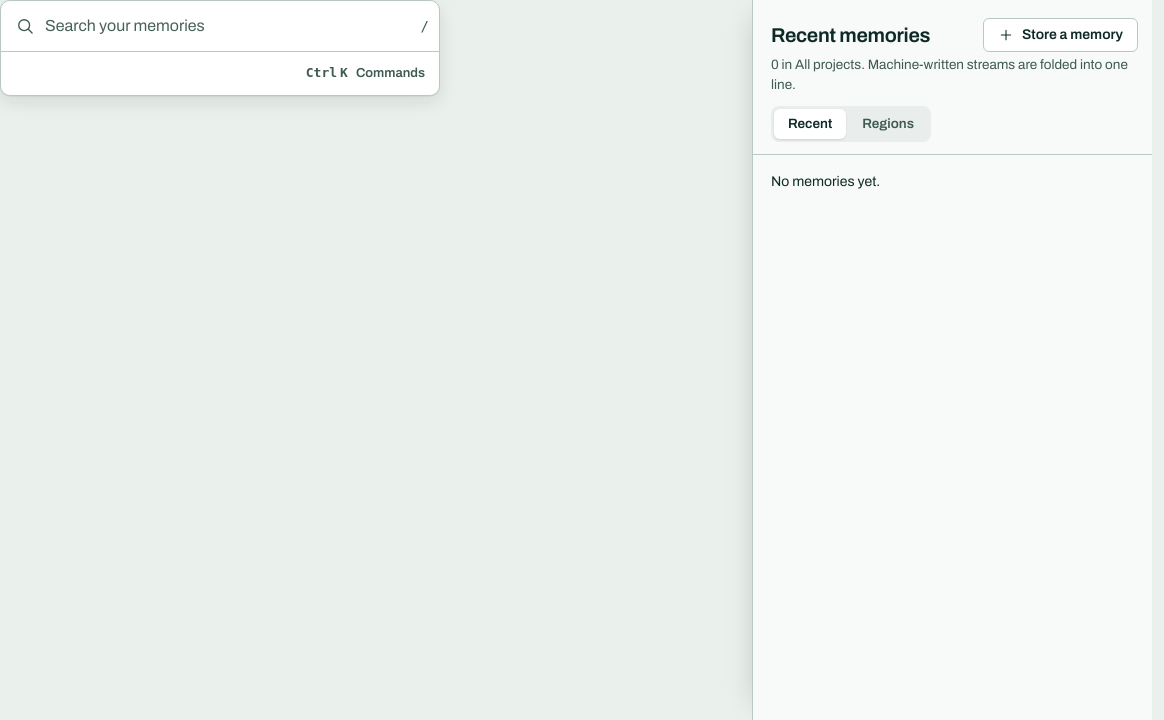
Test: SearchBar with the sheet › searches on Enter and shows the weaker matches under their label
Type "how do I deploy" into the field named "Search memories".
click(228, 26); type("how do I deploy")  # box 45,14 -> 411,38
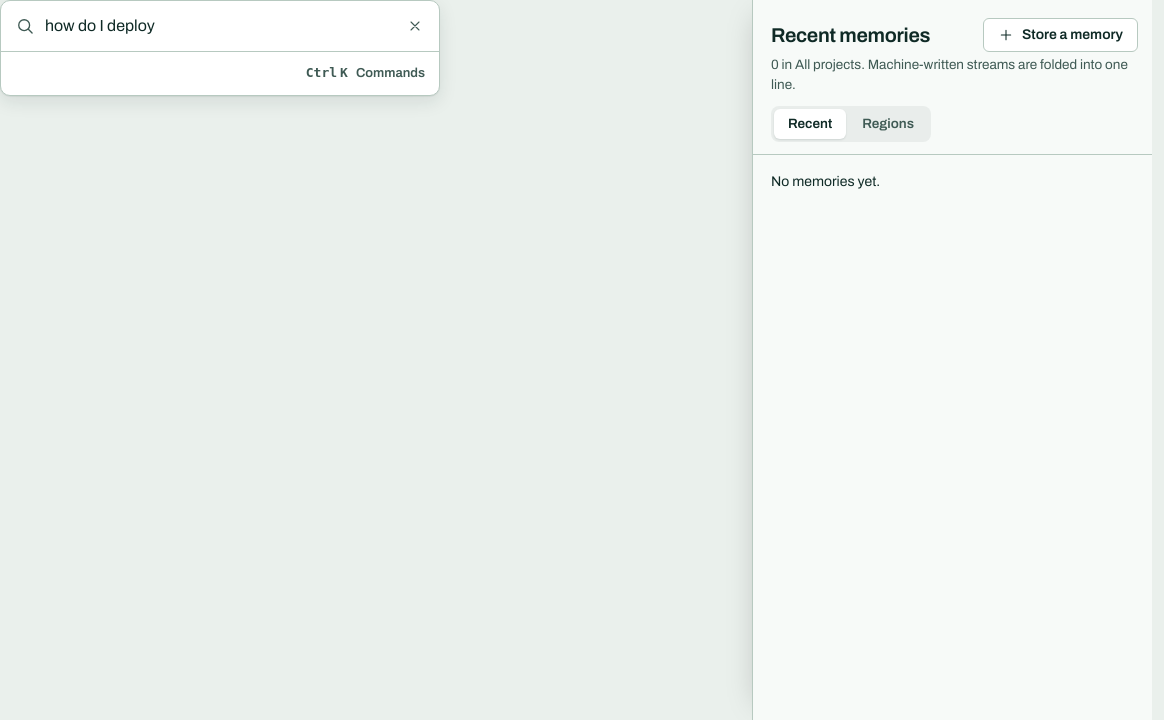
Press Enter in the field named "Search memories", box 45,14 -> 391,38
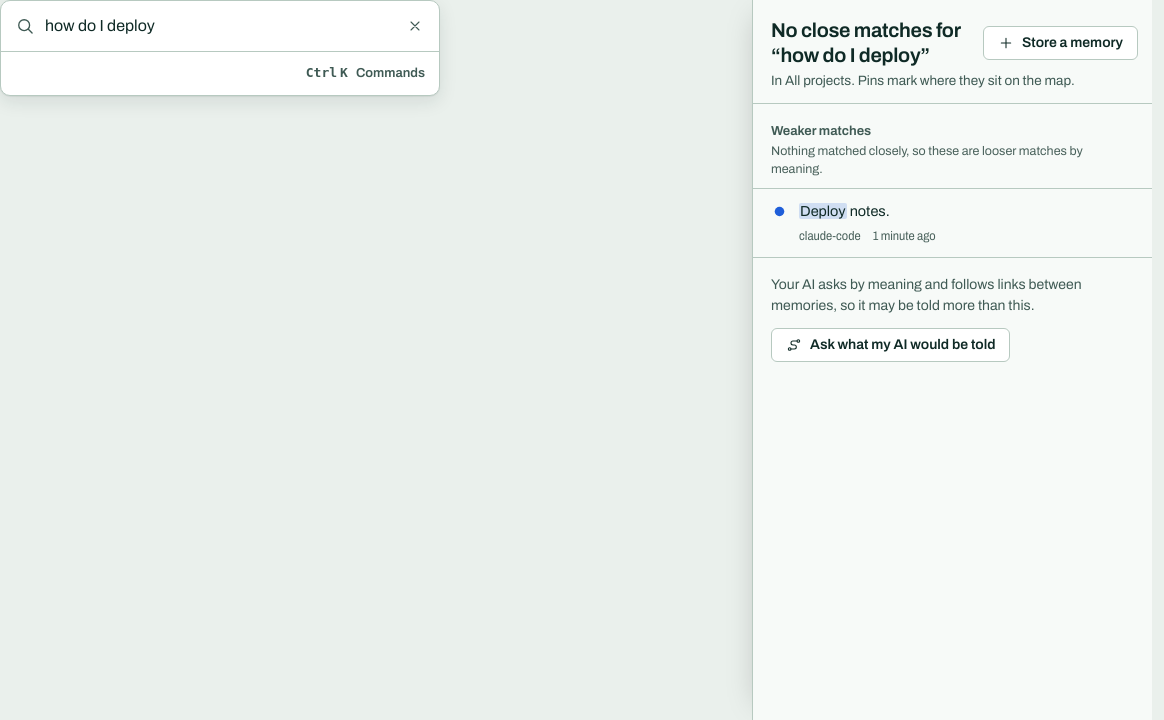
Check: the heading "No close matches for “how do I deploy”" is shown, box 771,18 -> 973,68
Check: the heading "Weaker matches" is shown, box 771,124 -> 871,138
Check: the text "Nothing matched closely" is shown, box 771,144 -> 906,158
